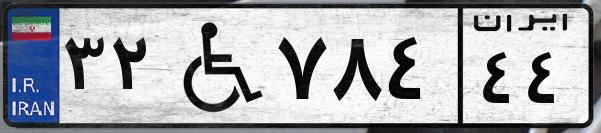2: (110, 28, 158, 98)
3: (57, 26, 110, 100)
4: (385, 28, 445, 110), (475, 38, 525, 113), (525, 38, 570, 115)
7: (270, 28, 330, 110)
8: (330, 28, 385, 110)
ژ (معلولین و جانبازان): (158, 12, 270, 120)
